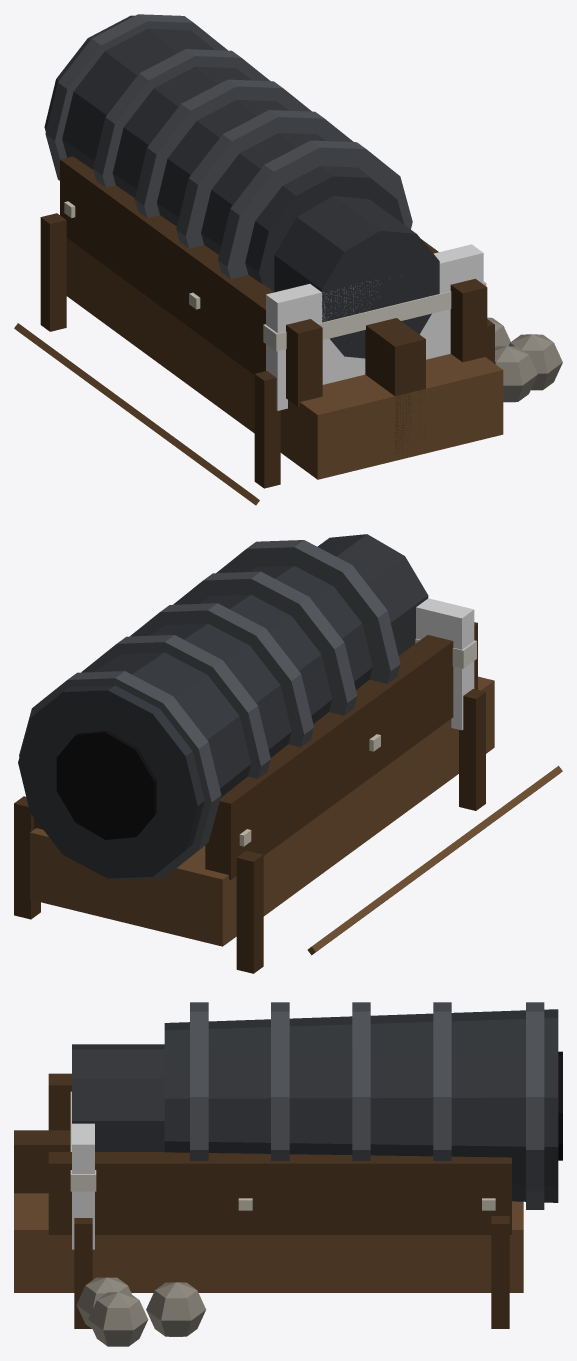
File: art_bombard.glb
3 renders of one model, top to bottom at view 1: azimuth 30°, elevation 25°; view 2: azimuth 150°, elevation 25°; view 3: azimuth 270°, elevation 25°, orthographic. The views are drawn at different scales.
Parts seen in each view (by area): view 1: art_bombard; view 2: art_bombard; view 3: art_bombard.
Boxes of the visible parts, x1,y1,x2,y2 form: art_bombard: [14, 14, 562, 505]; art_bombard: [14, 534, 562, 973]; art_bombard: [14, 1002, 562, 1346].
Size of the model in its own units: 1.73 by 1.25 by 2.37.
